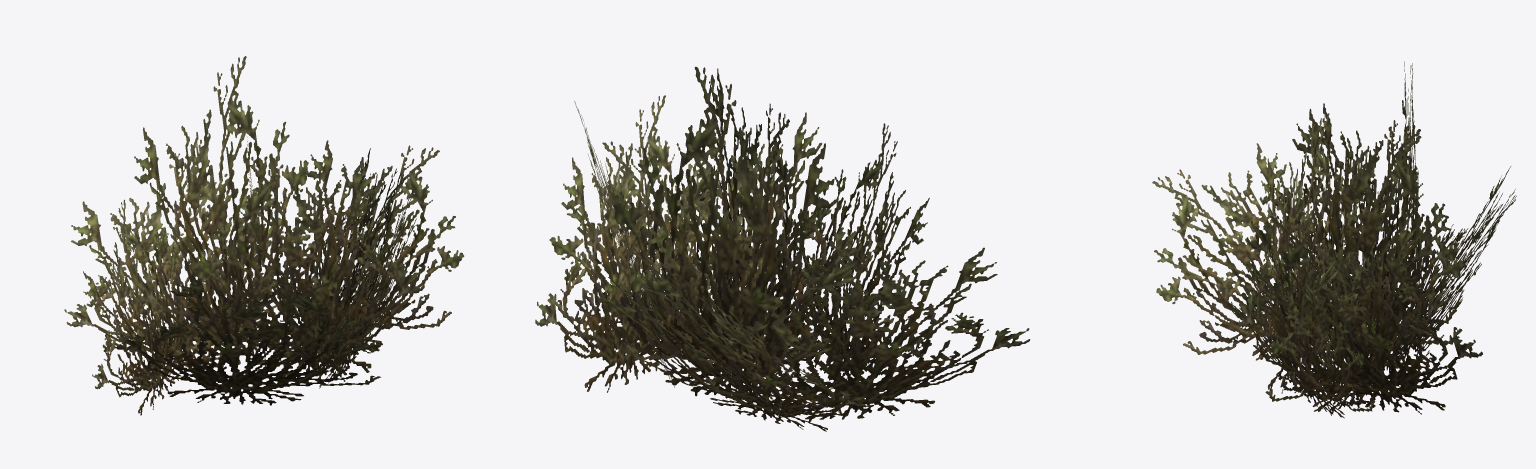
File: Gobi_Plant01.FBX
The picture shows the model from 3 angles, left to right: view 1: azimuth 30°, elevation 25°; view 2: azimuth 150°, elevation 25°; view 3: azimuth 270°, elevation 25°; orthographic projection. The views are drawn at different scales.
Visible parts, largest first — view 1: Gobi_Plant01; view 2: Gobi_Plant01; view 3: Gobi_Plant01.
Part boxes in pixels (box(x1,y1,x2,y2)): Gobi_Plant01: box(64, 56, 464, 415); Gobi_Plant01: box(535, 66, 1030, 431); Gobi_Plant01: box(1152, 61, 1516, 418).
Size of the model in its own units: 59.5 by 42.85 by 46.4.
